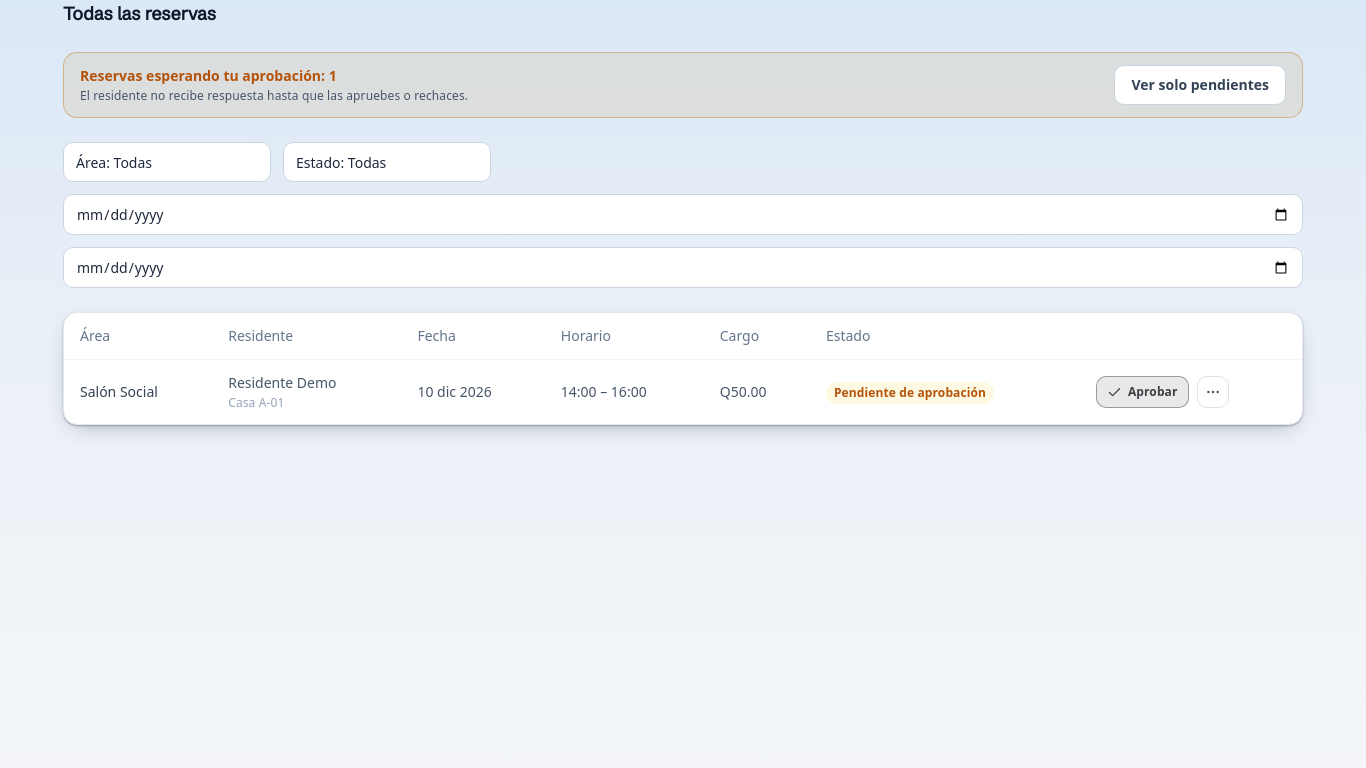
Test: AdminReservasPage › rechaza una reserva pendiente pasando el motivo que escribe el admin en el diálogo de la app
Step 1. Click the button named "Más acciones" → x=1212, y=392, box 1196,376 -> 1228,408
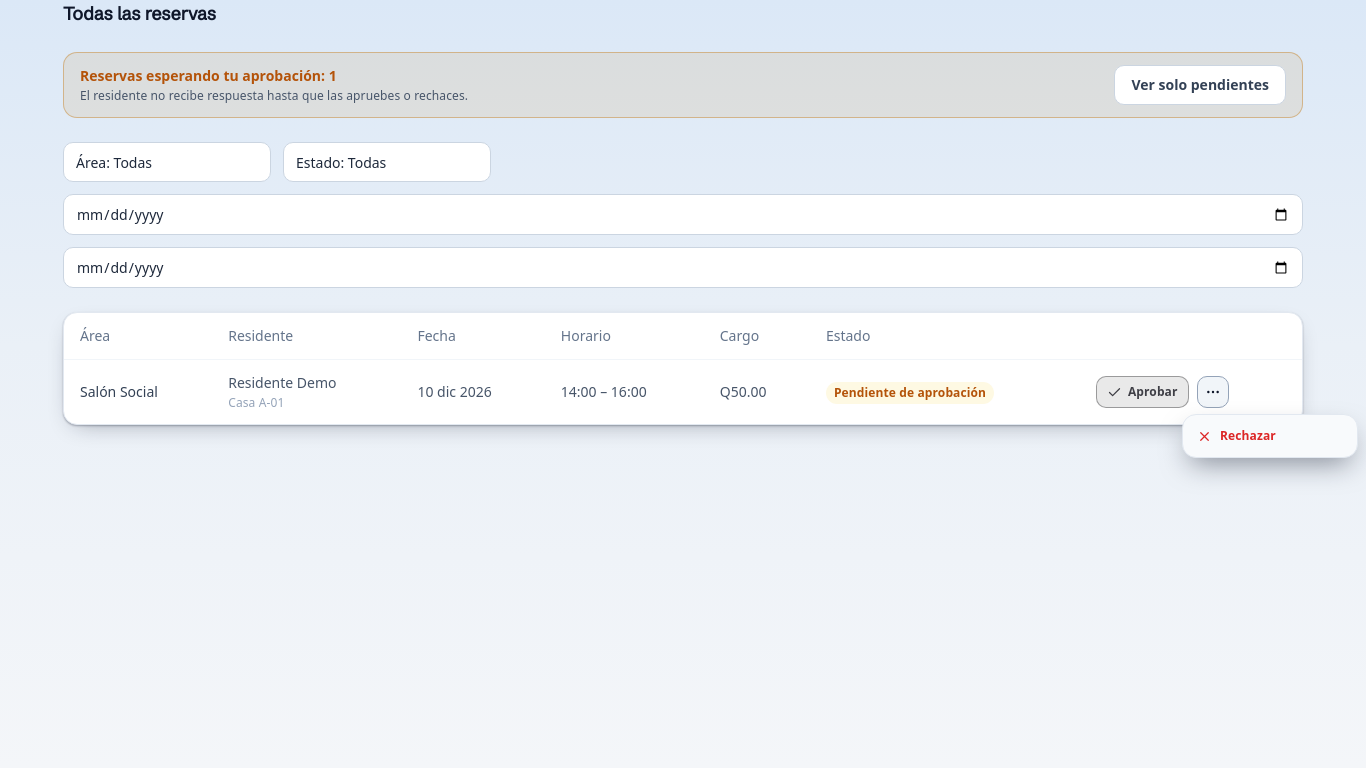
Step 2. Click the menu item "Rechazar" → x=1270, y=436, box 1187,419 -> 1353,453
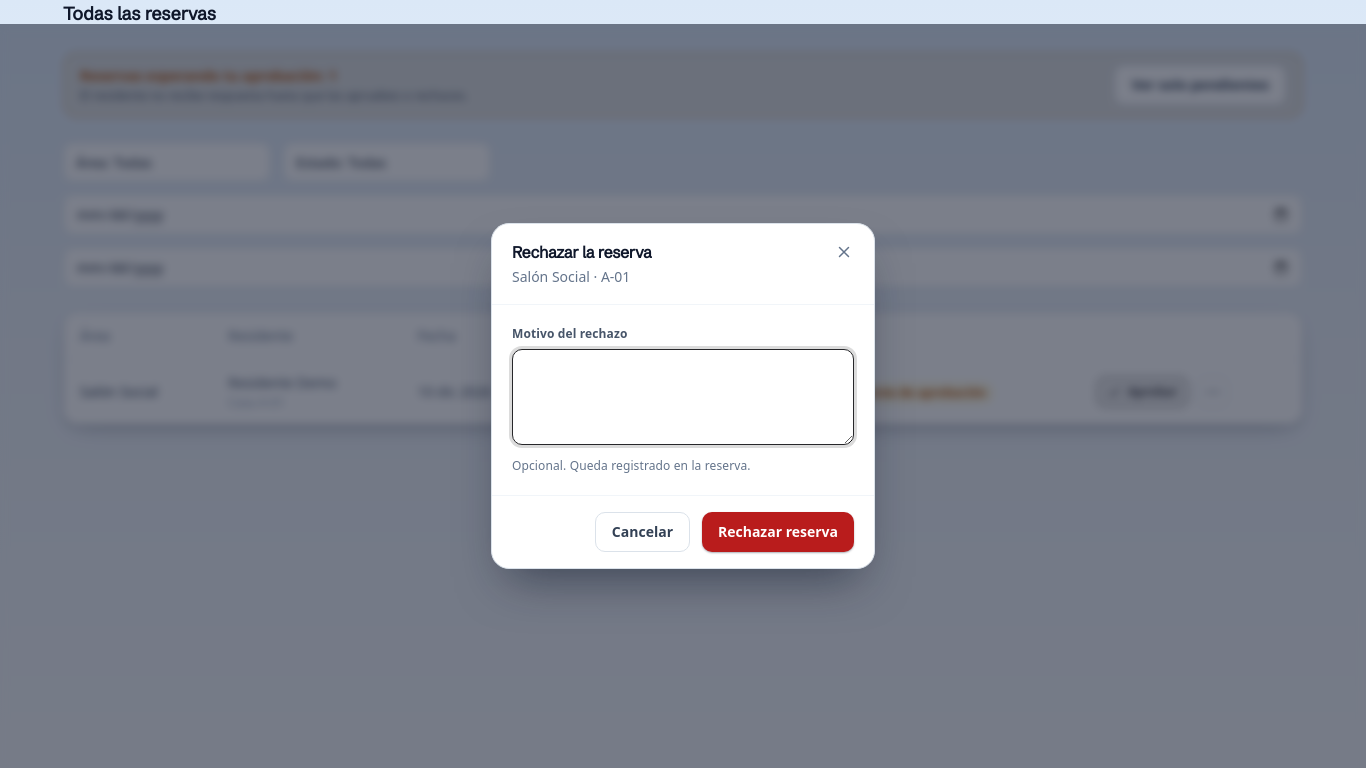
Check: the text "Salón Social · A-01" is shown, box 512,267 -> 630,286
Step 3. Type "  El salón está en mantenimiento " into the text box labelled "Motivo del rechazo" → x=683, y=397, box 512,349 -> 854,445
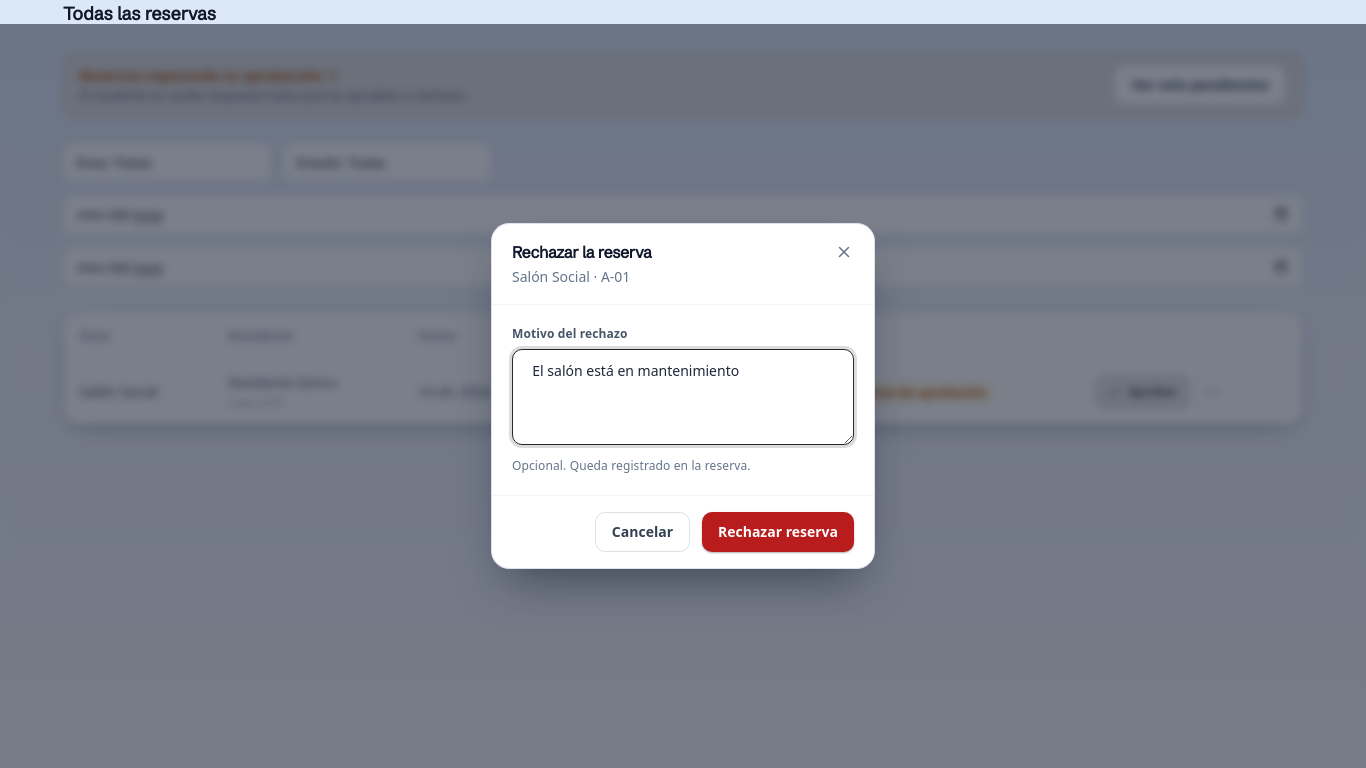
Step 4. Click the button "Rechazar reserva" → x=778, y=532, box 702,512 -> 854,552
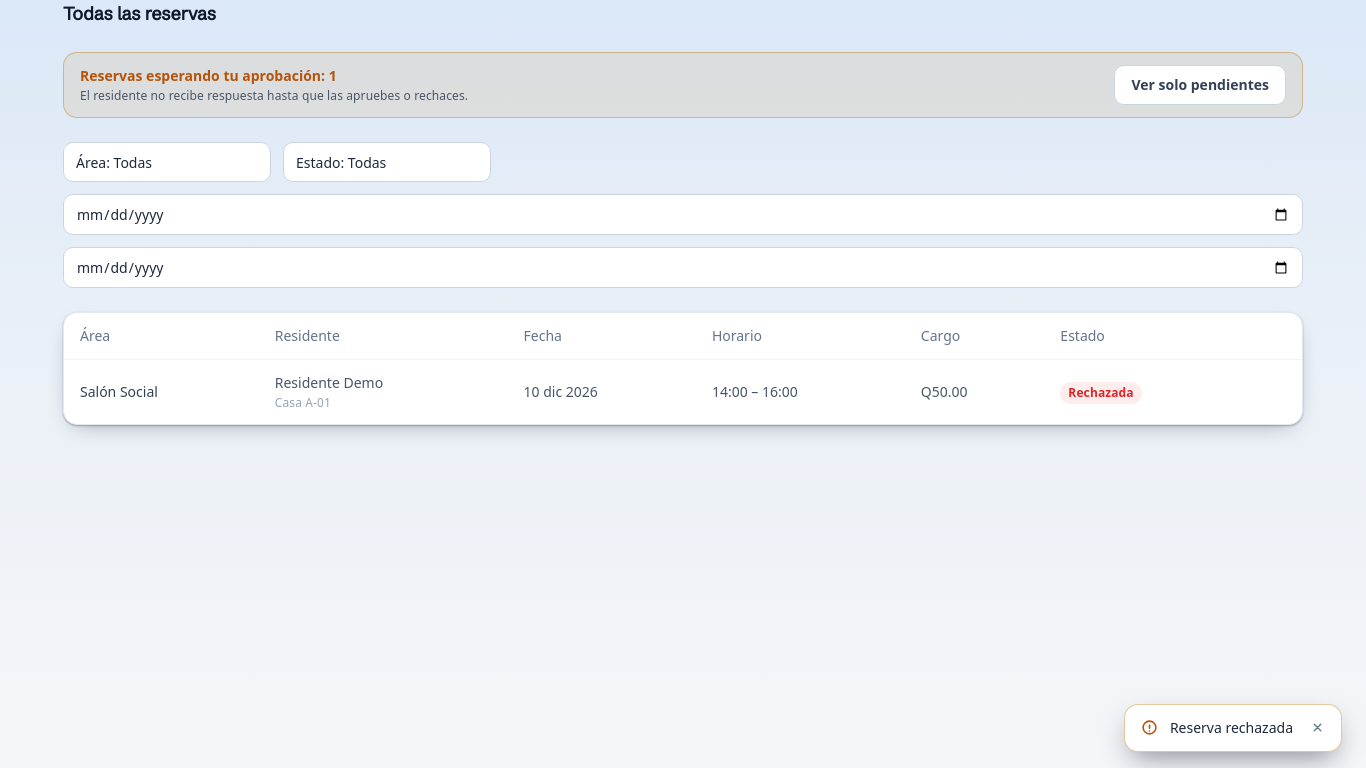
Check: the text "Reserva rechazada" is shown, box 1170,717 -> 1293,739
